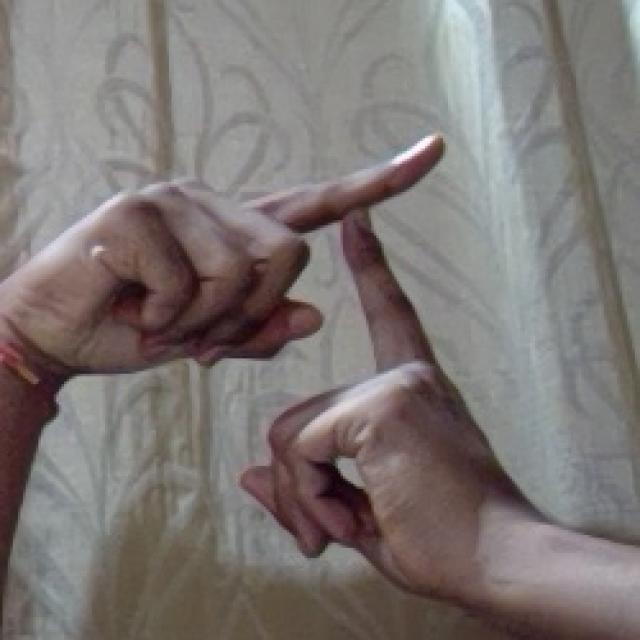Alphabet-T: (58, 128, 533, 614)
